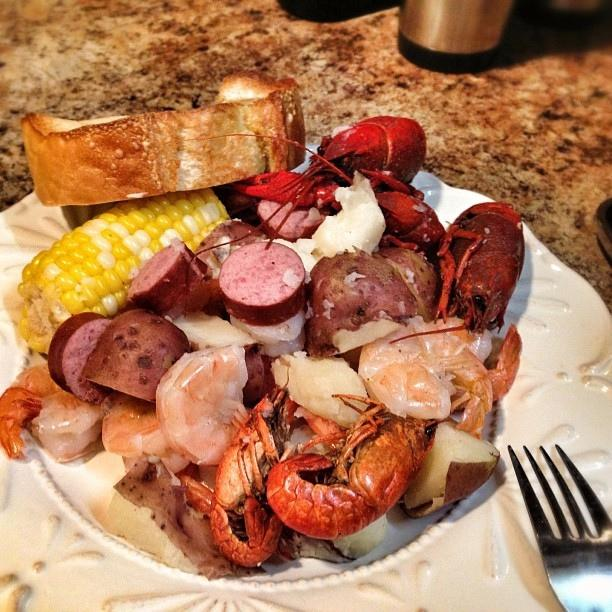corn: (18, 187, 230, 355)
potato: (102, 451, 268, 581), (304, 245, 418, 358), (80, 308, 191, 404), (398, 421, 501, 520), (164, 310, 264, 409), (270, 350, 370, 429), (312, 170, 386, 257), (375, 247, 444, 322), (230, 308, 306, 358), (321, 512, 387, 560), (272, 238, 325, 283), (192, 221, 256, 255)
